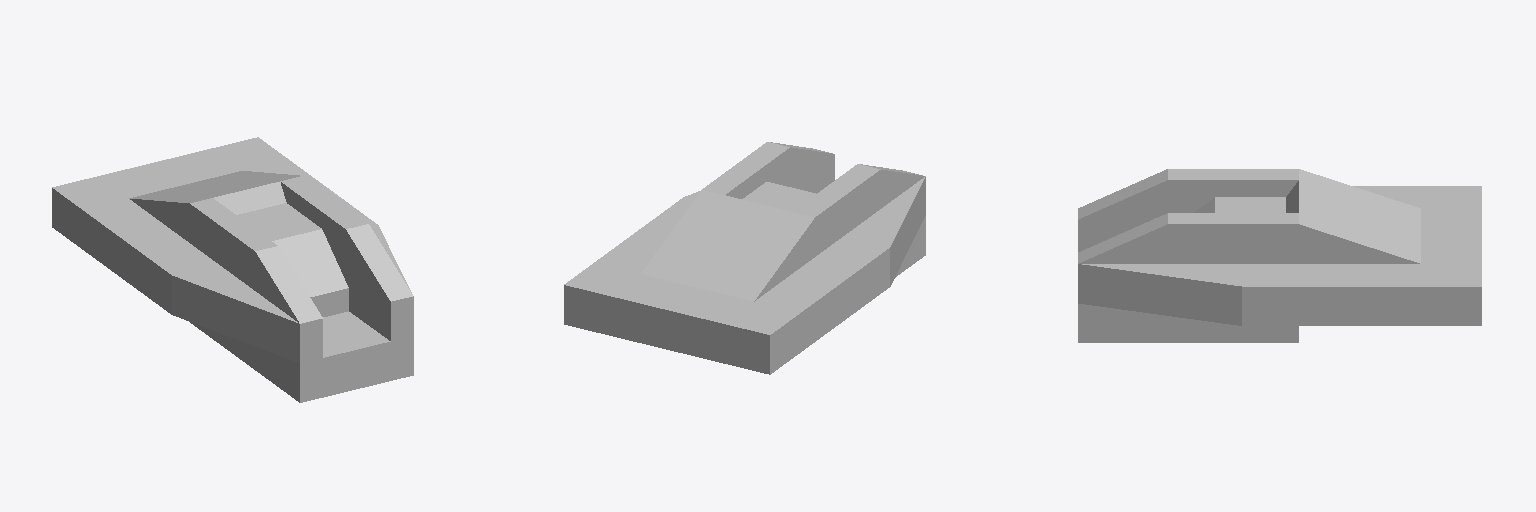
The model's file is turret_large1_body.obj.
3 views of the same model, side by side, from view 1: azimuth 30°, elevation 25°; view 2: azimuth 150°, elevation 25°; view 3: azimuth 270°, elevation 25° (orthographic).
Visible parts, largest first — view 1: turret_large1_body_Cube.001; view 2: turret_large1_body_Cube.001; view 3: turret_large1_body_Cube.001.
Boxes of the visible parts, x1=… form: turret_large1_body_Cube.001: x1=52, y1=137, x2=413, y2=402; turret_large1_body_Cube.001: x1=564, y1=142, x2=925, y2=374; turret_large1_body_Cube.001: x1=1078, y1=169, x2=1481, y2=342.
Bounding box in the file's own units: 0.4478 × 0.2464 × 0.7586.